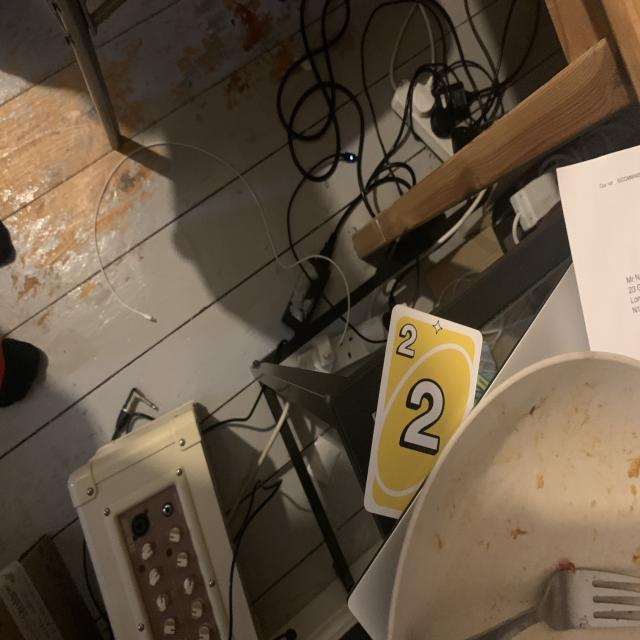lyellow-2: (393, 318, 420, 364)
